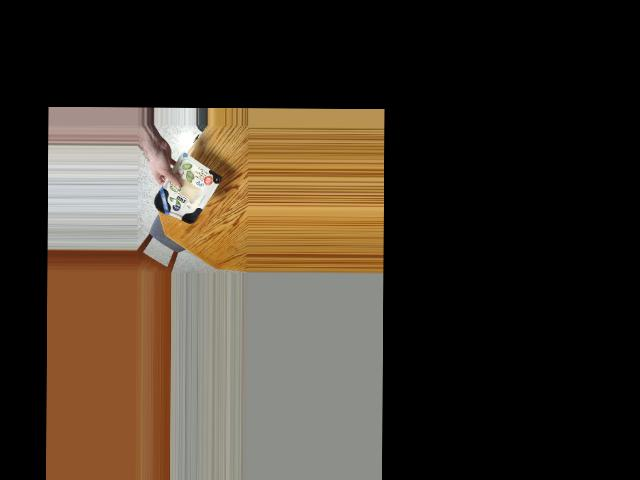cheese: (153, 161, 216, 229)
